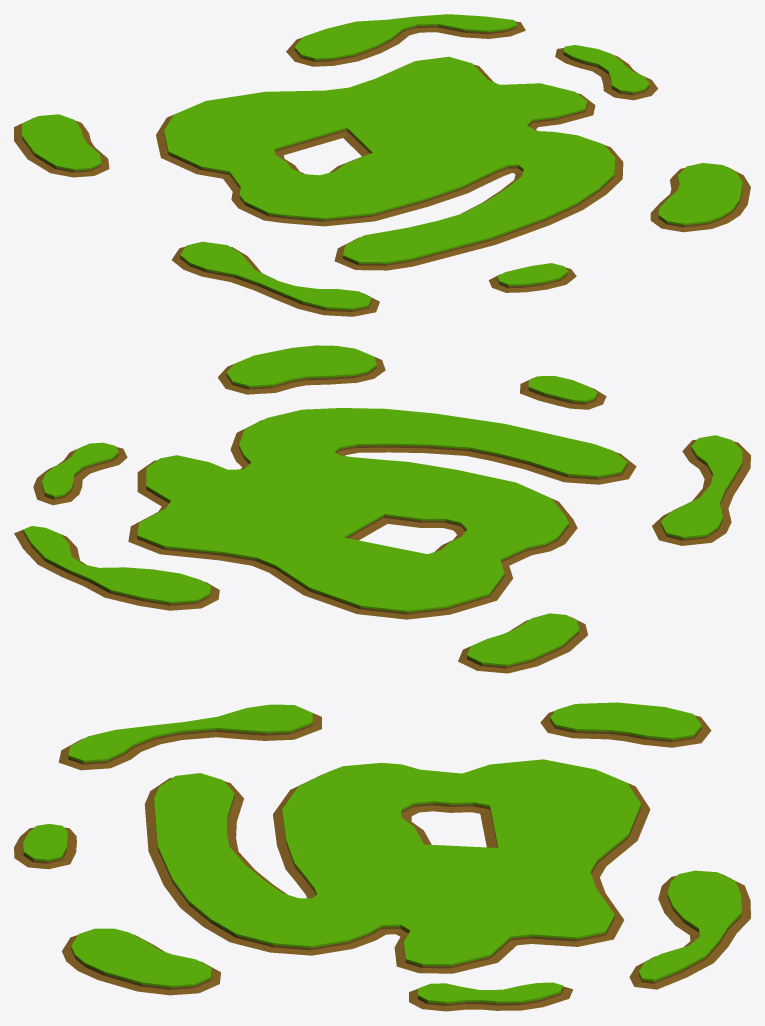
The model's file is LowPoly, Island.fbx.
3 renders of one model, top to bottom at view 1: azimuth 30°, elevation 25°; view 2: azimuth 150°, elevation 25°; view 3: azimuth 270°, elevation 25°, orthographic. The views are drawn at different scales.
Visible parts, largest first — view 1: Plane, Plane.006, Plane.001, Plane.004, Plane.002, Plane.005, Plane.003; view 2: Plane, Plane.006, Plane.001, Plane.004, Plane.002, Plane.005, Plane.003; view 3: Plane, Plane.006, Plane.001, Plane.004, Plane.002, Plane.005, Plane.003.
Part boxes in pixels (x1,y1,x2,y2): Plane: [156, 56, 623, 270]; Plane.006: [286, 14, 525, 66]; Plane.001: [172, 241, 379, 316]; Plane.004: [650, 163, 750, 232]; Plane.002: [14, 114, 109, 177]; Plane.005: [555, 45, 657, 100]; Plane.003: [488, 263, 576, 292]; Plane: [128, 408, 636, 619]; Plane.006: [14, 526, 219, 610]; Plane.001: [652, 435, 750, 545]; Plane.004: [218, 345, 385, 394]; Plane.002: [458, 613, 587, 673]; Plane.005: [33, 442, 127, 505]; Plane.003: [520, 376, 606, 409]; Plane: [144, 759, 650, 973]; Plane.006: [629, 870, 750, 989]; Plane.001: [58, 704, 321, 770]; Plane.004: [62, 928, 220, 995]; Plane.002: [540, 702, 711, 747]; Plane.005: [409, 982, 573, 1011]; Plane.003: [14, 824, 76, 869].
Size of the model in its own units: 1336 by 11.45 by 1353.
